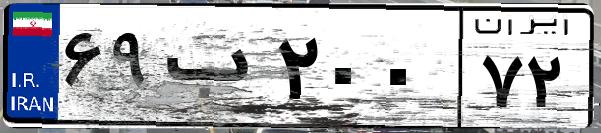0: (385, 28, 445, 110), (330, 28, 385, 110)
2: (270, 28, 330, 110), (525, 38, 570, 115)
6: (57, 26, 110, 100)
7: (475, 38, 525, 113)
9: (110, 28, 158, 98)
ب: (158, 20, 270, 120)
